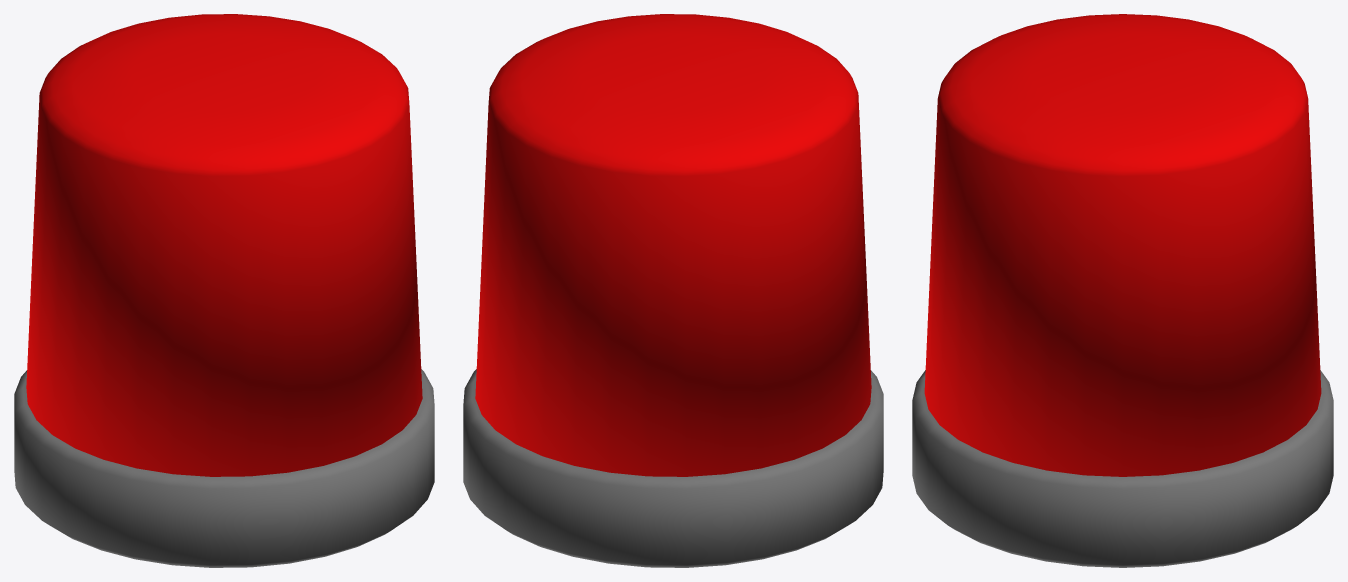
The model's file is AlarmLight.fbx.
The picture shows the model from 3 angles, left to right: view 1: azimuth 30°, elevation 25°; view 2: azimuth 150°, elevation 25°; view 3: azimuth 270°, elevation 25°; orthographic projection.
Visible parts, largest first — view 1: Glass, Base; view 2: Glass, Base; view 3: Glass, Base.
Part boxes in pixels (x1,y1,x2,y2): Glass: [26, 14, 422, 476]; Base: [14, 369, 434, 567]; Glass: [475, 14, 871, 476]; Base: [463, 369, 883, 567]; Glass: [924, 14, 1321, 476]; Base: [912, 370, 1333, 567].
Size of the model in its own units: 200 by 215 by 200.
